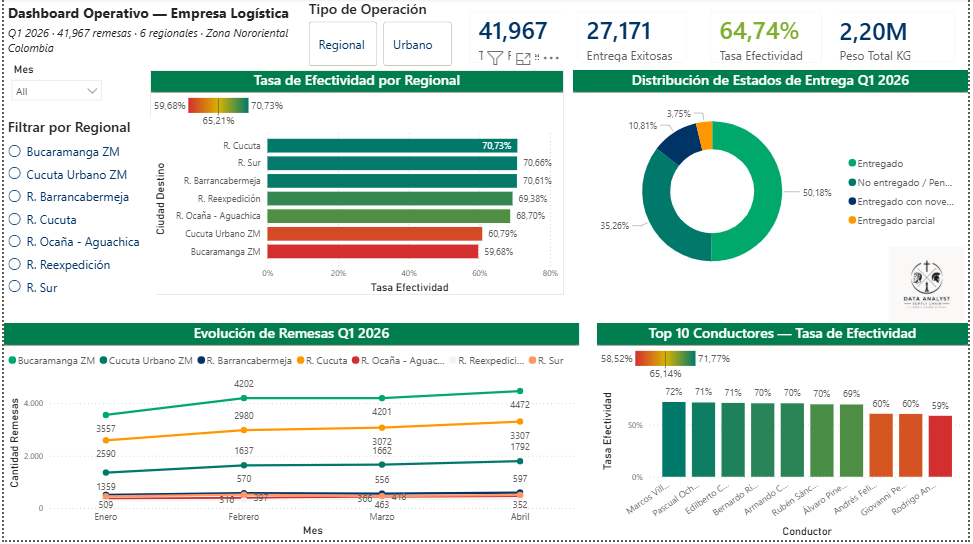

The page's visual inventory and layout, read from the dashboard file:
{"tool":"powerbi","page":{"name":"Dashboard OP","canvas":[1280,720],"ordinal":0},"visuals":[{"type":"cardVisual","fields":{"Data":["aldia_Q1_detalle_powerbi (1).Peso Total KG"]},"box":[1080,1.7,200,101.7],"z":0},{"type":"cardVisual","fields":{"Data":["aldia_Q1_detalle_powerbi (1).Tasa Efectividad"]},"box":[920,0,183.3,103.3],"z":1000},{"type":"cardVisual","fields":{"Data":["aldia_Q1_detalle_powerbi (1).Total Remesas"]},"box":[600,0,163.3,103.3],"z":2000},{"type":"cardVisual","fields":{"Data":["aldia_Q1_detalle_powerbi (1).Entrega Exitosas"]},"box":[743.3,0,180,103.3],"z":3000},{"type":"clusteredBarChart","title":"Tasa de Efectividad por Regional","fields":{"Y":["aldia_Q1_detalle_powerbi (1).Tasa Efectividad"],"Category":["aldia_Q1_detalle_powerbi (1).Regional_clean"]},"box":[193.3,95,550,300],"z":4000},{"type":"slicer","fields":{"Values":["aldia_Q1_detalle_powerbi (1).Mes"]},"box":[0,81.7,140,76.7],"z":5000},{"type":"lineChart","title":"Evolución de Remesas Q1 2026","fields":{"Category":["aldia_Q1_detalle_powerbi (1).Mes"],"Series":["aldia_Q1_detalle_powerbi (1).Regional_clean"],"Y":["aldia_Q1_detalle_powerbi (1).Cantidad Remesas"]},"box":[0,431.7,763.9,288.3],"z":6000},{"type":"clusteredColumnChart","title":"Top 10 Conductores — Tasa de Efectividad","fields":{"Category":["aldia_Q1_detalle_powerbi (1).Conductor"],"Y":["aldia_Q1_detalle_powerbi (1).Tasa Efectividad"]},"box":[787.7,431.7,492.8,288.3],"z":7000},{"type":"donutChart","title":"Distribución de Estados de Entrega Q1 2026","fields":{"Y":["aldia_Q1_detalle_powerbi (1).Total Remesas"],"Category":["aldia_Q1_detalle_powerbi (1).Estado Agrupado"]},"box":[755.9,95.6,524.7,292.3],"z":8000},{"type":"listSlicer","fields":{"Values":["aldia_Q1_detalle_powerbi (1).Regional_clean"]},"box":[0,158.3,201.7,256.7],"z":9000},{"type":"advancedSlicerVisual","fields":{"Values":["aldia_Q1_detalle_powerbi (1).Tipo_Operacion"]},"box":[399.9,1.3,200.6,94.3],"z":10000},{"type":"image","box":[1170.3,330.8,110.3,101],"z":11000},{"type":"textbox","box":[0,1.5,399.5,80.5],"z":12000},{"type":"textbox","box":[0,30.7,399.5,51.2],"z":13000}]}

Visuals, with their boxes in screenshot pixels (x1, y1, x2, y2), scaled from the page's 1280x720 canvas onto the 973x544 screenshot:
cardVisual - aldia_Q1_detalle_powerbi (1).Peso Total KG: crop(821, 1, 972, 78)
cardVisual - aldia_Q1_detalle_powerbi (1).Tasa Efectividad: crop(699, 0, 839, 78)
cardVisual - aldia_Q1_detalle_powerbi (1).Total Remesas: crop(456, 0, 580, 78)
cardVisual - aldia_Q1_detalle_powerbi (1).Entrega Exitosas: crop(565, 0, 702, 78)
"Tasa de Efectividad por Regional" clusteredBarChart: crop(147, 72, 565, 298)
slicer - aldia_Q1_detalle_powerbi (1).Mes: crop(0, 62, 106, 120)
"Evolución de Remesas Q1 2026" lineChart: crop(0, 326, 581, 543)
"Top 10 Conductores — Tasa de Efectividad" clusteredColumnChart: crop(599, 326, 972, 543)
"Distribución de Estados de Entrega Q1 2026" donutChart: crop(575, 72, 972, 293)
listSlicer - aldia_Q1_detalle_powerbi (1).Regional_clean: crop(0, 120, 153, 314)
advancedSlicerVisual - aldia_Q1_detalle_powerbi (1).Tipo_Operacion: crop(304, 1, 456, 72)
image: crop(890, 250, 972, 326)
textbox: crop(0, 1, 304, 62)
textbox: crop(0, 23, 304, 62)
